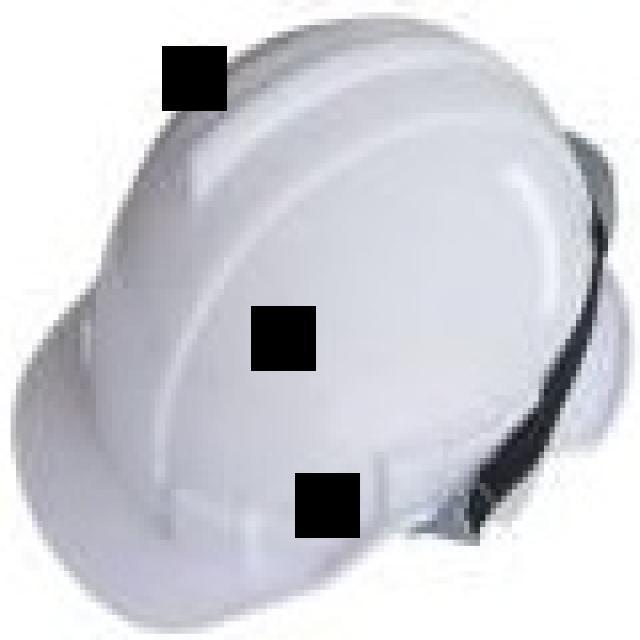white helmet: (20, 33, 627, 627)
